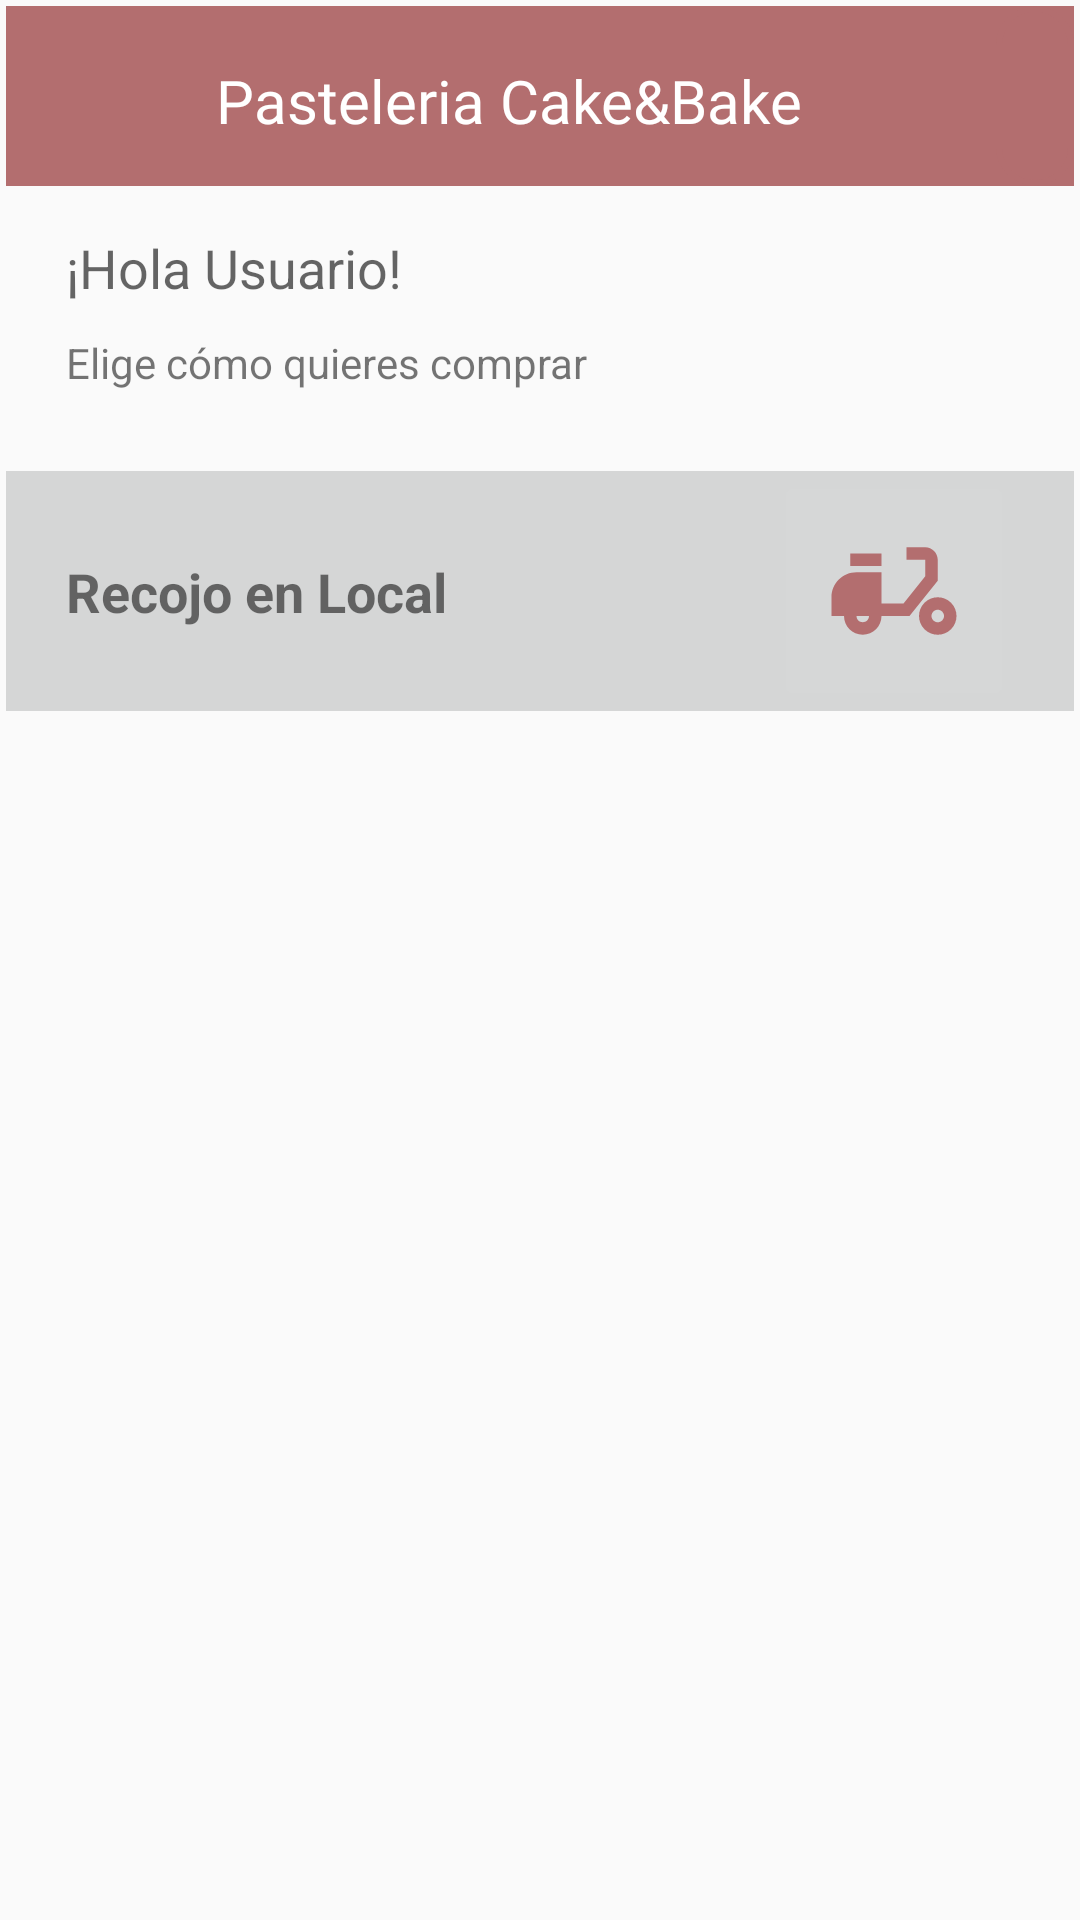

Icons on this 1080*1920 Android screen, each with its box as (x1, y1, x2, y2):
Icono de delivery: (831, 547, 957, 635)
